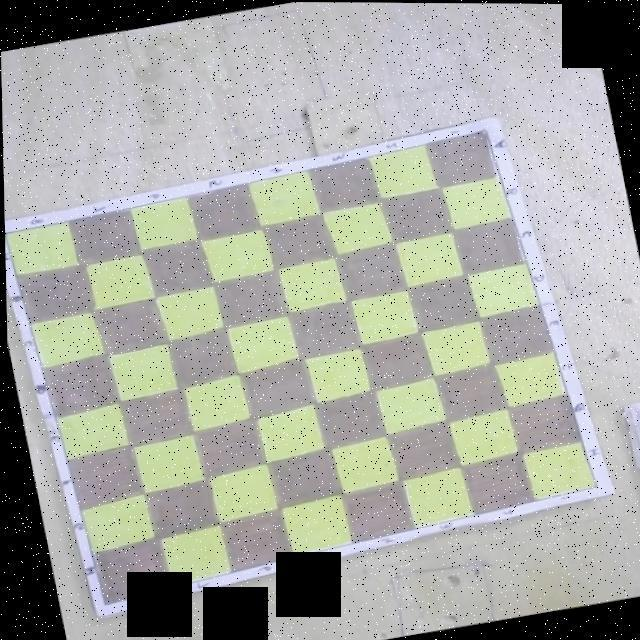chess-table-corners: (478, 126, 487, 134), (586, 482, 596, 488), (97, 600, 107, 606), (4, 231, 7, 237)
